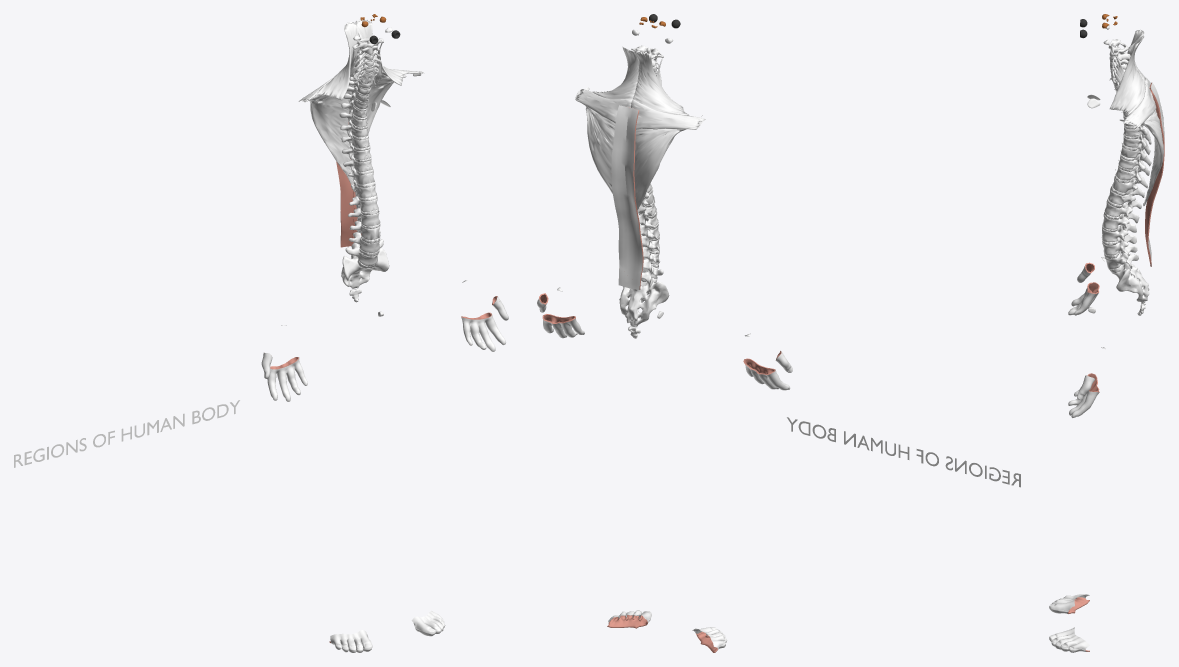
The model's file is spine.glb.
The picture shows the model from 3 angles, left to right: view 1: azimuth 30°, elevation 25°; view 2: azimuth 150°, elevation 25°; view 3: azimuth 270°, elevation 25°; orthographic projection. The views are drawn at different scales.
Visible parts, largest first — view 1: Descending part of trapezius muscle.r, Regions of human body.g, Palmar surfaces of digits of hand.l, Ascending part of trapezius muscle.r, Palmar surfaces of digits of hand.r, Sacrum, Vertebral region.r; view 2: Vertebral region.l, Descending part of trapezius muscle.r, Vertebral region.r, Descending part of trapezius muscle.l, Ascending part of trapezius muscle.r, Sacrum, Regions of human body.g, Transverse part of trapezius muscle.r, Transverse part of trapezius muscle.l, Ascending part of trapezius muscle.l, Dorsal surfaces of digits of hand.r; view 3: Ascending part of trapezius muscle.l, Sacrum, Descending part of trapezius muscle.l, Vertebral region.l, Transverse part of trapezius muscle.l, Dorsal surfaces of digits of foot.l, Dorsal surfaces of digits of hand.l, Palmar surfaces of digits of hand.r, Vertebra L3, Vertebra L2, Vertebra L1, Vertebra L4 (+15 smaller).
Boxes of the visible parts, <box> form: Descending part of trapezius muscle.r: <box>308,85,355,191</box>; Regions of human body.g: <box>14,400,239,467</box>; Palmar surfaces of digits of hand.l: <box>462,298,507,351</box>; Ascending part of trapezius muscle.r: <box>315,22,362,100</box>; Palmar surfaces of digits of hand.r: <box>267,353,307,401</box>; Sacrum: <box>341,248,389,288</box>; Vertebral region.r: <box>336,161,353,247</box>; Vertebral region.l: <box>611,105,631,287</box>; Descending part of trapezius muscle.r: <box>634,128,683,210</box>; Vertebral region.r: <box>625,107,643,290</box>; Descending part of trapezius muscle.l: <box>585,106,615,193</box>; Ascending part of trapezius muscle.r: <box>633,51,689,115</box>; Sacrum: <box>619,277,669,326</box>; Regions of human body.g: <box>787,417,1020,487</box>; Transverse part of trapezius muscle.r: <box>631,99,705,129</box>; Transverse part of trapezius muscle.l: <box>575,89,632,123</box>; Ascending part of trapezius muscle.l: <box>593,47,638,99</box>; Dorsal surfaces of digits of hand.r: <box>743,351,792,390</box>; Ascending part of trapezius muscle.l: <box>1110,36,1145,114</box>; Sacrum: <box>1112,253,1149,303</box>; Descending part of trapezius muscle.l: <box>1143,109,1163,204</box>; Vertebral region.l: <box>1145,87,1164,266</box>; Transverse part of trapezius muscle.l: <box>1123,82,1156,127</box>; Dorsal surfaces of digits of foot.l: <box>1049,627,1089,650</box>; Dorsal surfaces of digits of hand.l: <box>1068,373,1099,418</box>; Palmar surfaces of digits of hand.r: <box>1068,263,1092,314</box>; Vertebra L3: <box>1101,225,1136,243</box>; Vertebra L2: <box>1102,214,1136,232</box>; Vertebra L1: <box>1104,201,1139,223</box>; Vertebra L4: <box>1102,238,1137,256</box>.
Size of the model in its own units: 1.34 by 1.62 by 0.2776.
